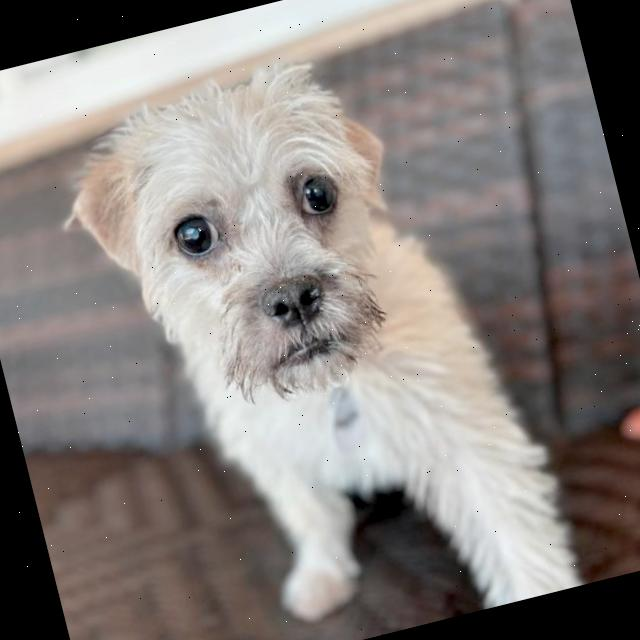Poodle_dog: (31, 31, 463, 467)
